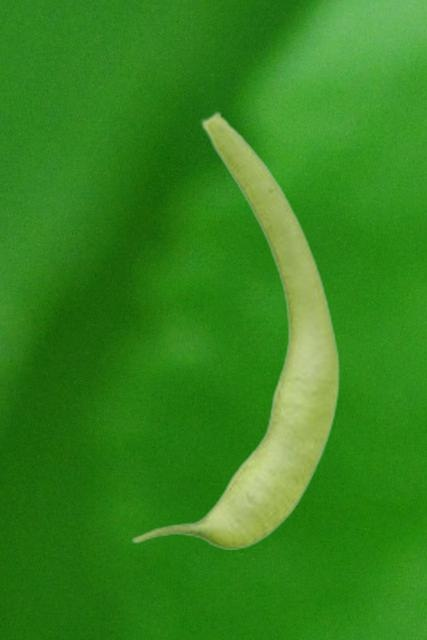french_bean: (130, 109, 340, 548)
